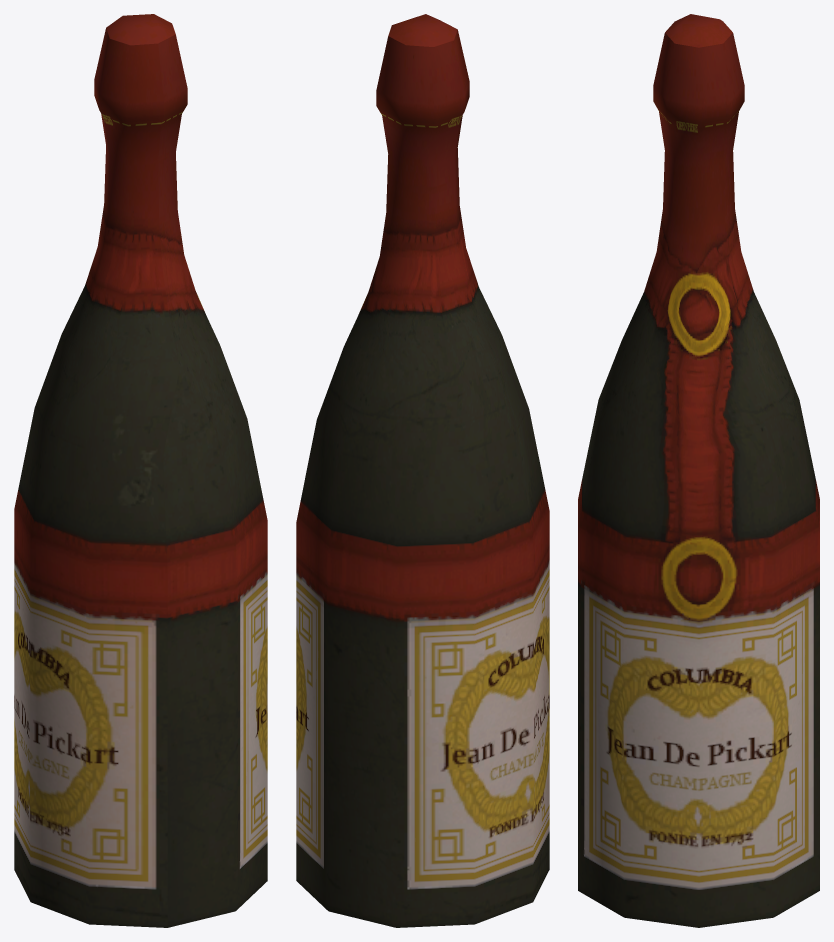
The model's file is Champagne_Bottle_Columbia.obj.
3 views of the same model, side by side, from view 1: azimuth 30°, elevation 25°; view 2: azimuth 150°, elevation 25°; view 3: azimuth 270°, elevation 25° (orthographic).
Parts seen in each view (by area): view 1: Champagne_Bottle; view 2: Champagne_Bottle; view 3: Champagne_Bottle.
Boxes of the visible parts, box(x1,y1,x2,y2) form: Champagne_Bottle: box(14, 14, 267, 927); Champagne_Bottle: box(296, 14, 549, 927); Champagne_Bottle: box(578, 14, 819, 927).
Bounding box in the file's own units: 15 × 55.43 × 14.27.
Materials: 1 (1 with a texture image).
